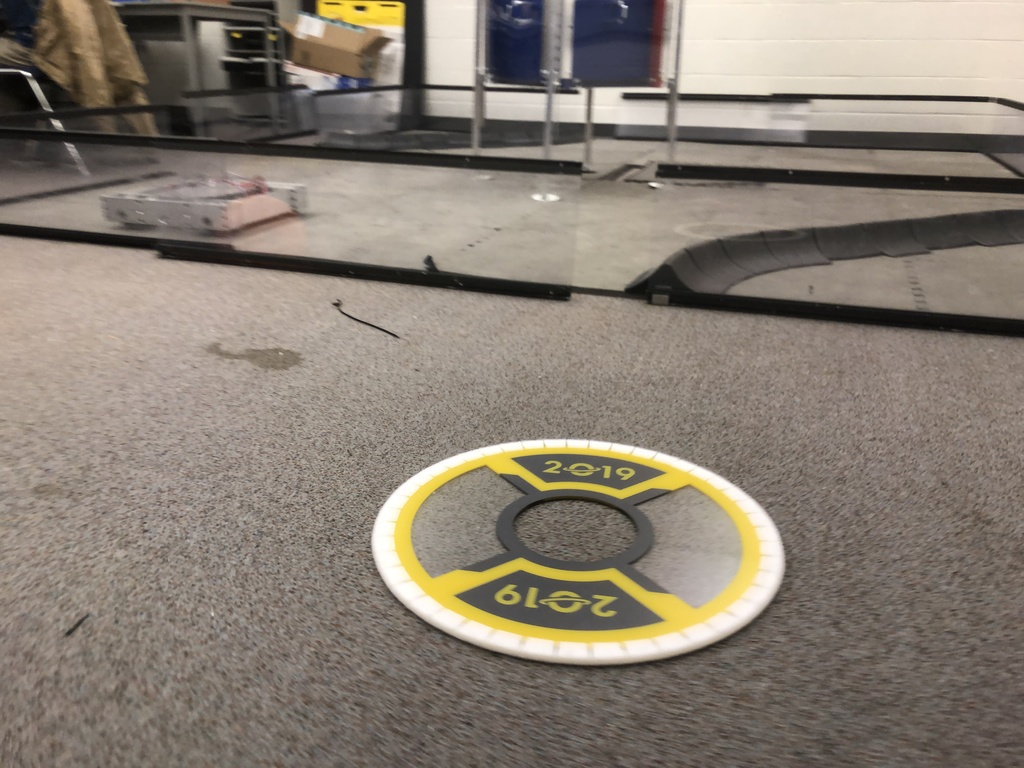hatch_panel: (360, 430, 799, 670)
